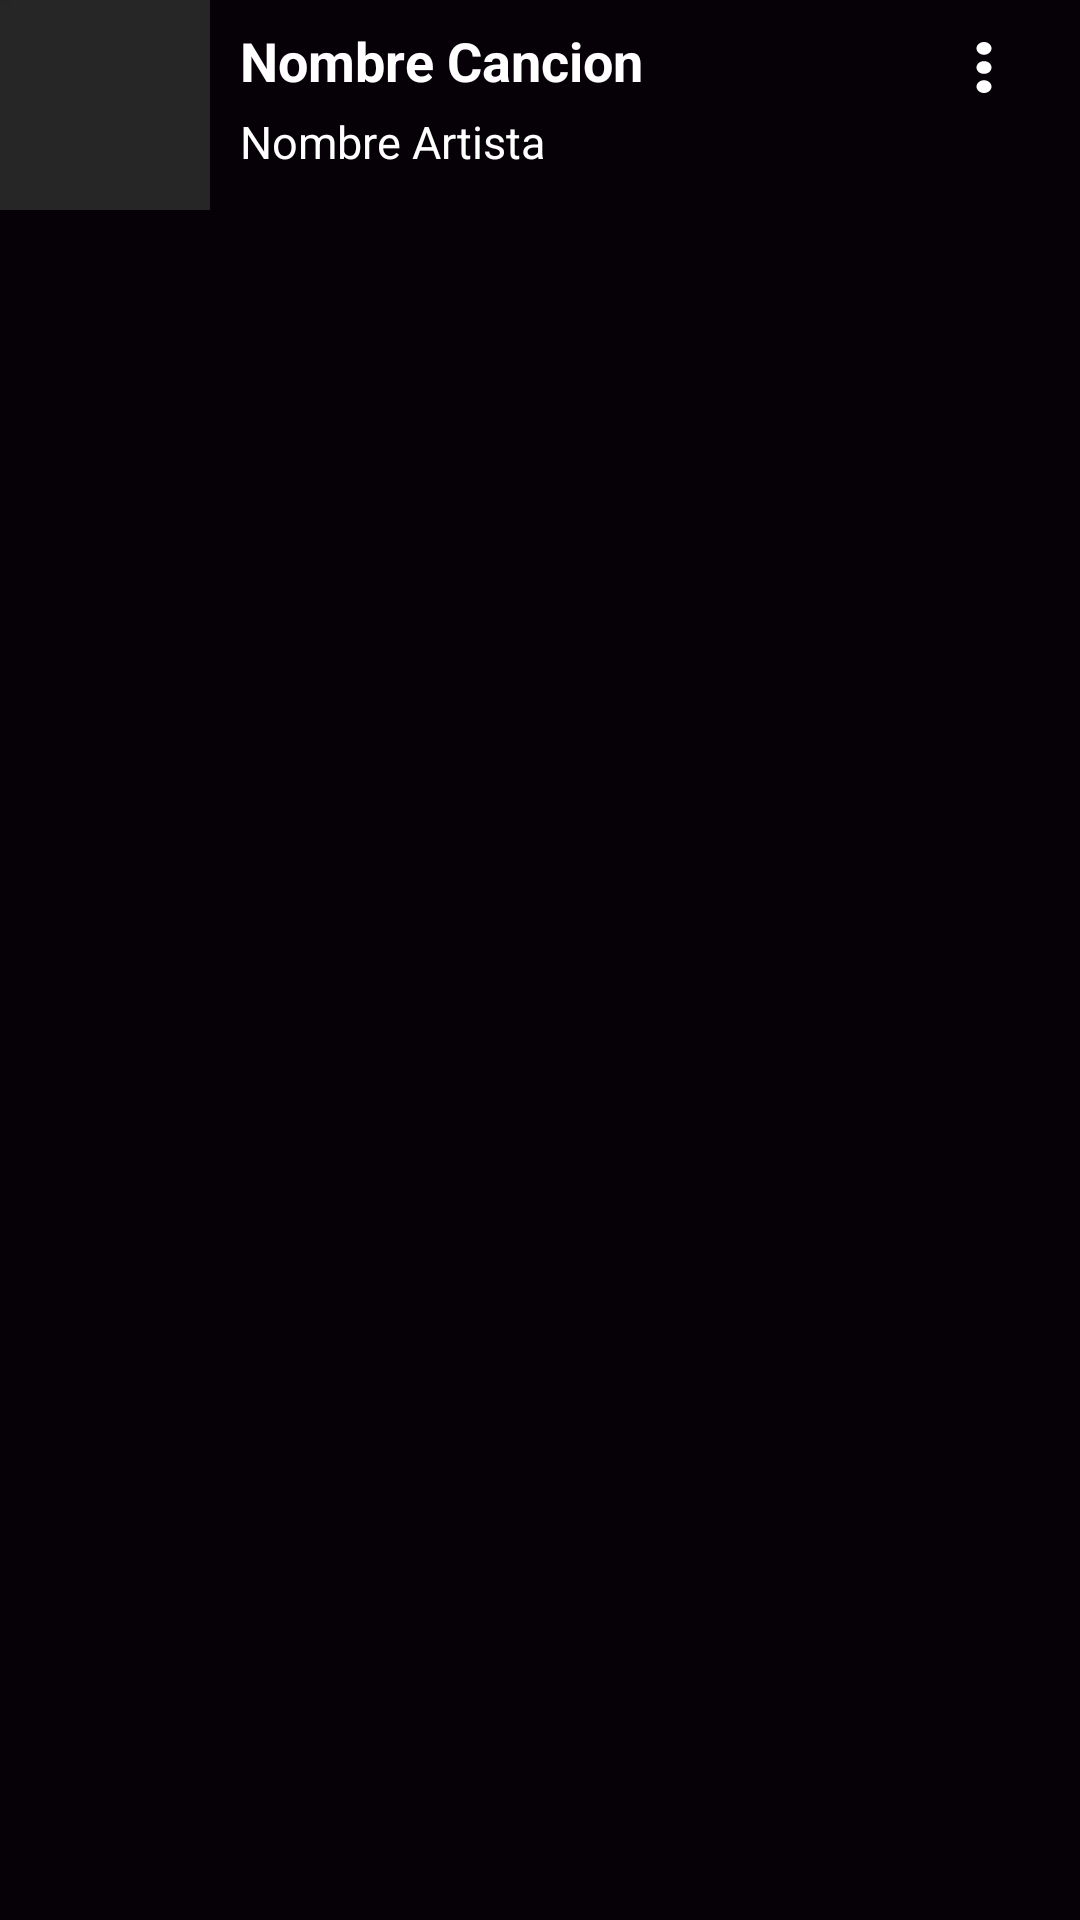

Named icons in this screenshot (1080 × 1920) and their centers, point (x, y):
menu: point (984, 67)
